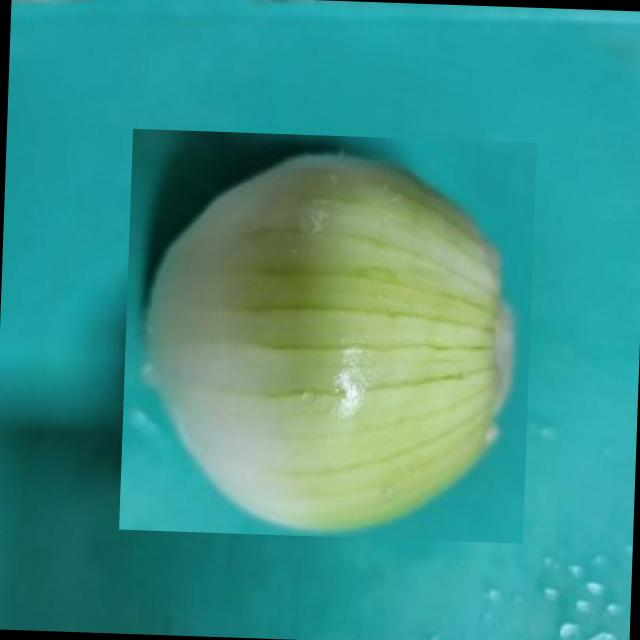Onion: (119, 127, 536, 544)
